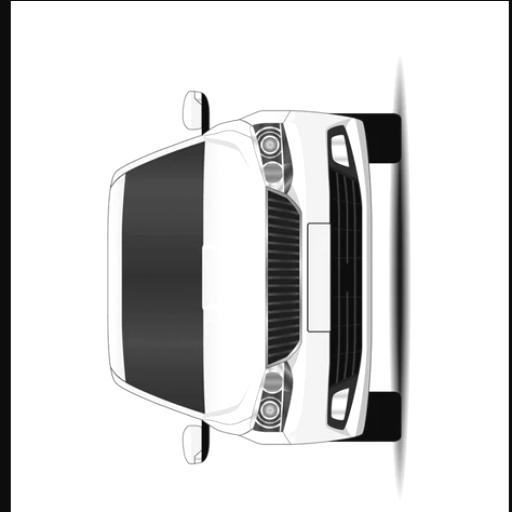hatchback: (107, 90, 400, 460)
